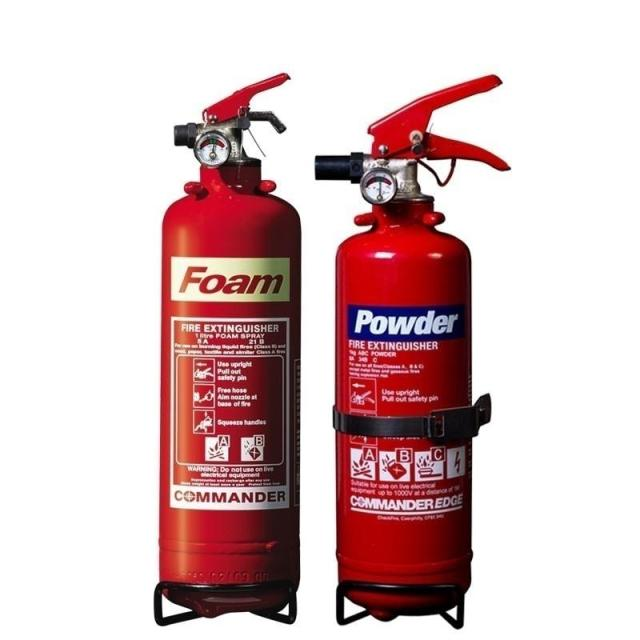fire_extinguisher: (307, 70, 512, 628), (152, 69, 306, 623)
